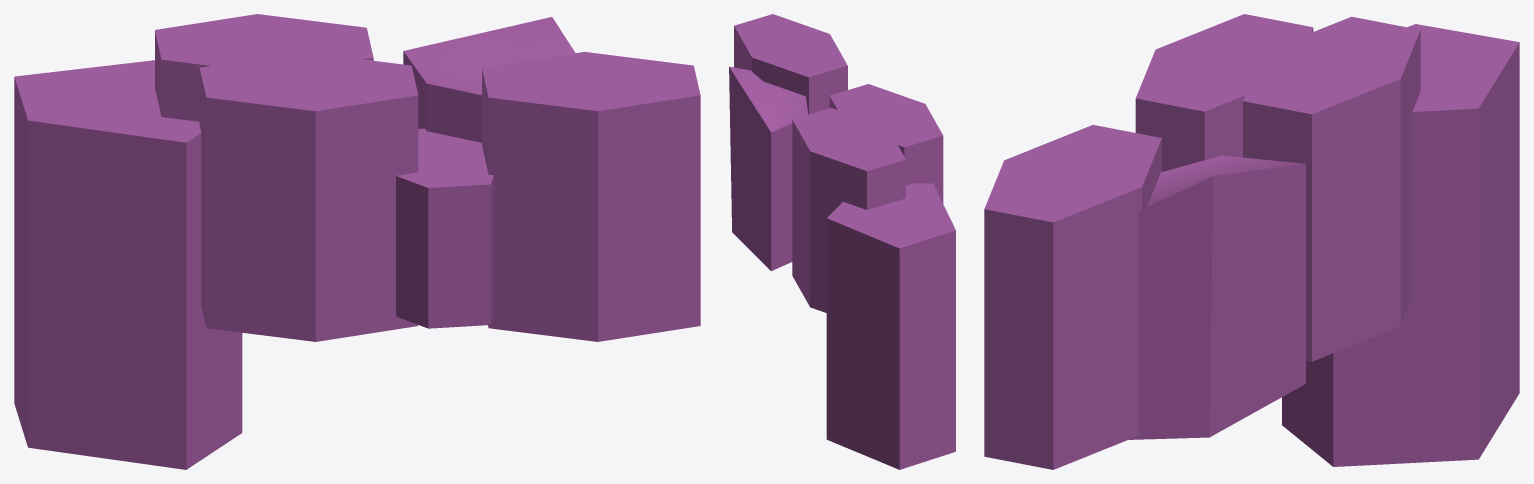
File: Rock7.fbx
3 renders of one model, left to right at view 1: azimuth 30°, elevation 25°; view 2: azimuth 150°, elevation 25°; view 3: azimuth 270°, elevation 25°, orthographic. The views are drawn at different scales.
Visible parts, largest first — view 1: pCylinder102; view 2: pCylinder102; view 3: pCylinder102.
Part boxes in pixels (left/top/right/bottom): pCylinder102: left=14, top=14, right=700, bottom=469; pCylinder102: left=729, top=14, right=955, bottom=469; pCylinder102: left=984, top=14, right=1519, bottom=469.
Size of the model in its own units: 8.43 by 6.41 by 7.34.
